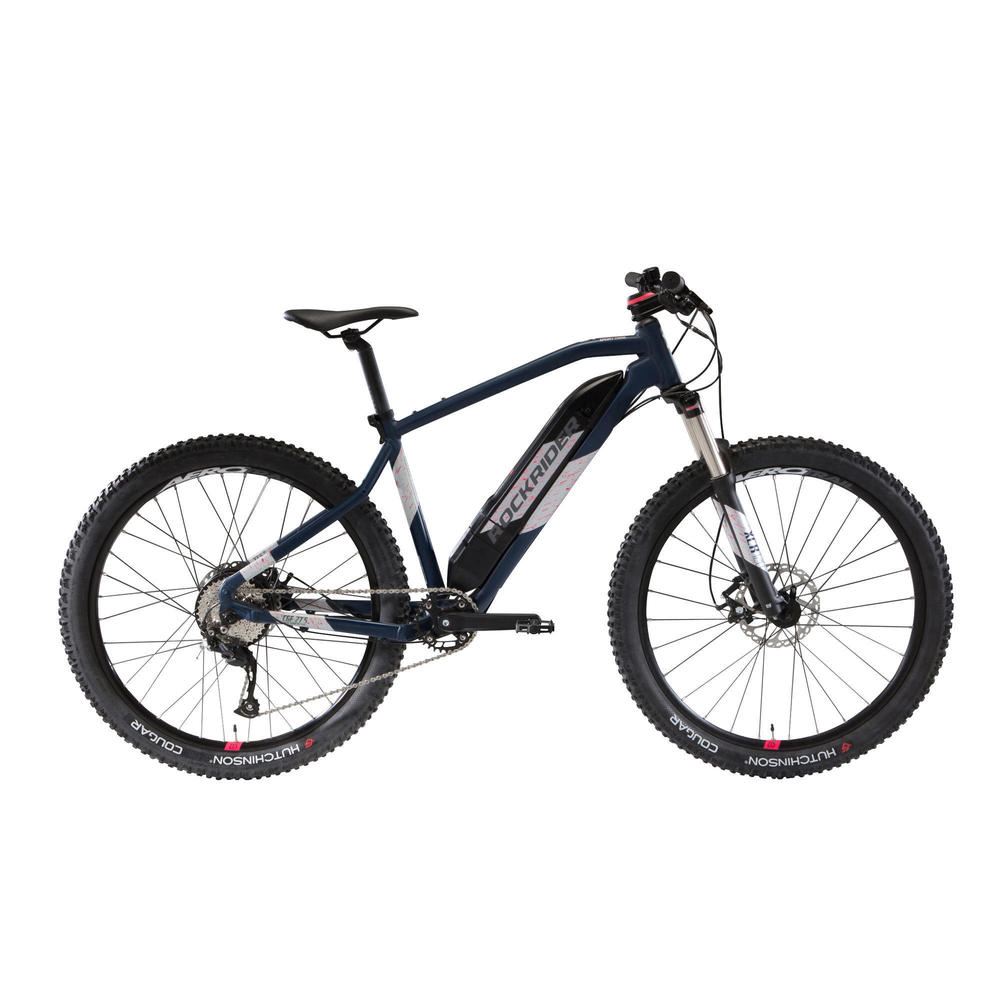MountainBike: (52, 251, 961, 795)
